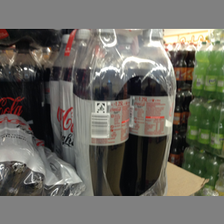soda: (72, 29, 131, 196), (126, 29, 176, 196)
